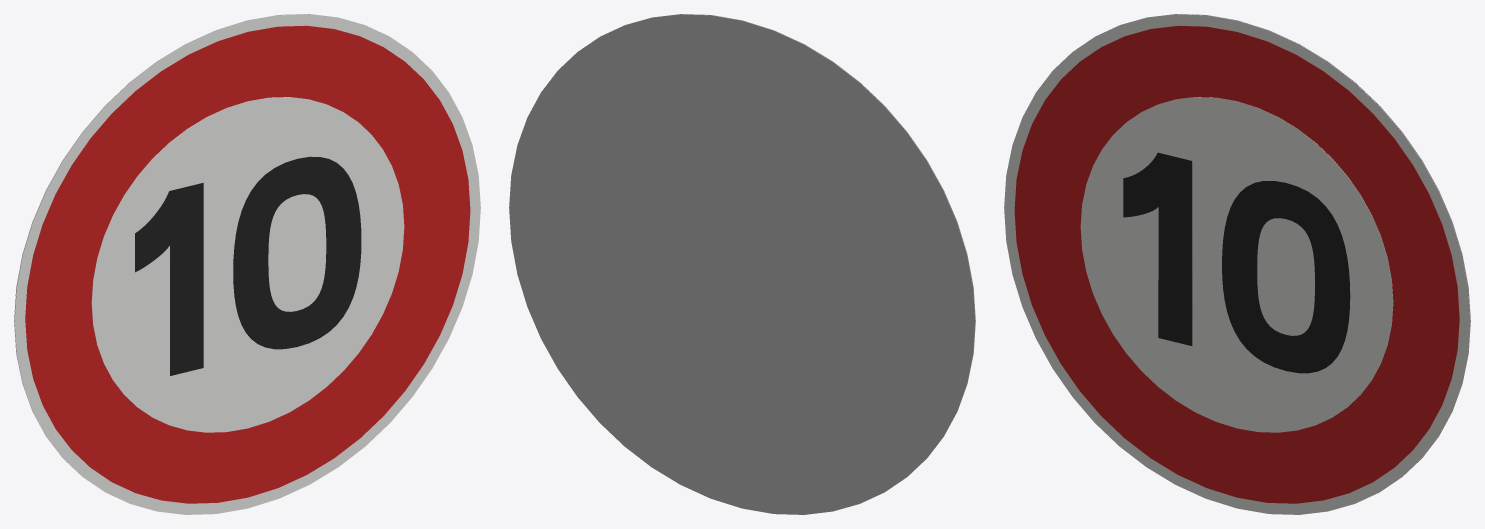
3 renders of one model, left to right at view 1: azimuth 30°, elevation 25°; view 2: azimuth 150°, elevation 25°; view 3: azimuth 330°, elevation 25°, orthographic.
Parts seen in each view (by area): view 1: B14-10_p01, B14-10_p02, B14-10_p00, B14-10_p03, B14-10_p04, B14-10_dos; view 2: B14-10_dos, B14-10_p00; view 3: B14-10_p01, B14-10_p02, B14-10_p00, B14-10_p03, B14-10_p04, B14-10_dos.
Boxes of the visible parts, x1,y1,x2,y2 form: B14-10_p01: (25,25,470,503); B14-10_p02: (91,97,404,432); B14-10_p00: (14,14,480,514); B14-10_p03: (233,156,361,349); B14-10_p04: (135,182,203,375); B14-10_dos: (14,14,385,473); B14-10_dos: (509,14,975,514); B14-10_p00: (604,14,975,473); B14-10_p01: (1014,25,1459,503); B14-10_p02: (1080,97,1393,432); B14-10_p00: (1004,14,1470,514); B14-10_p03: (1222,181,1350,373); B14-10_p04: (1123,152,1192,345); B14-10_dos: (1099,14,1470,473).
Size of the model in its own units: 0.85 by 0.8498 by 0.0035.
